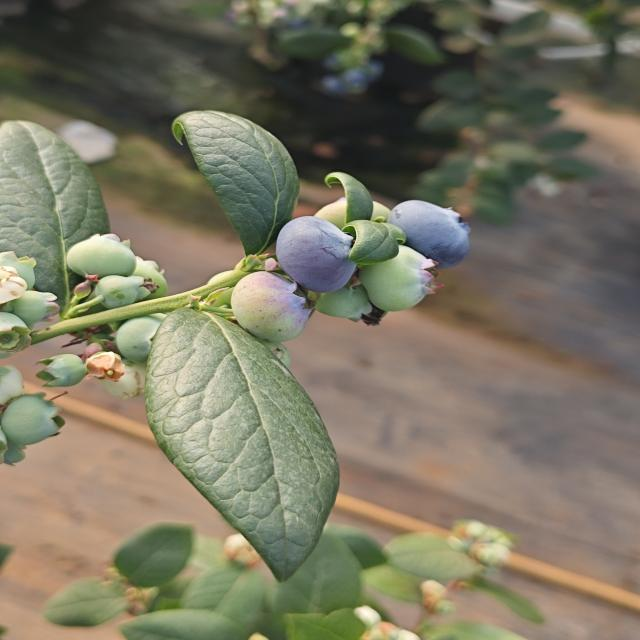ripe: (269, 212, 355, 296), (386, 194, 472, 269)
